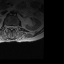CCS_normal: (10, 23, 12, 32)
LFS_normal: (14, 23, 16, 30)
LLS_normal: (12, 23, 14, 30)
RFS_normal: (6, 23, 8, 30)
RLS_normal: (8, 23, 10, 30)
